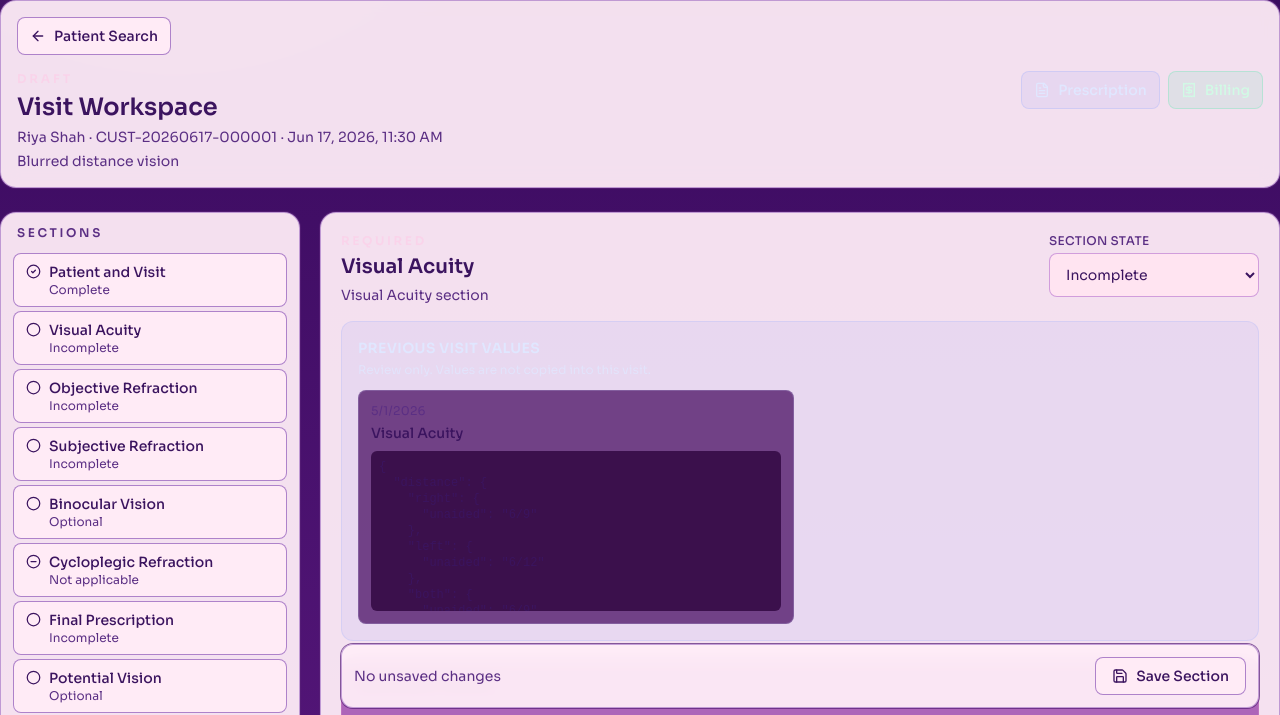
Test: VisitWorkspacePage examination workspace › shows visible save failure state when section save fails
Click the button "Save Section".
click(1171, 676)  # box 1095,657 -> 1246,695
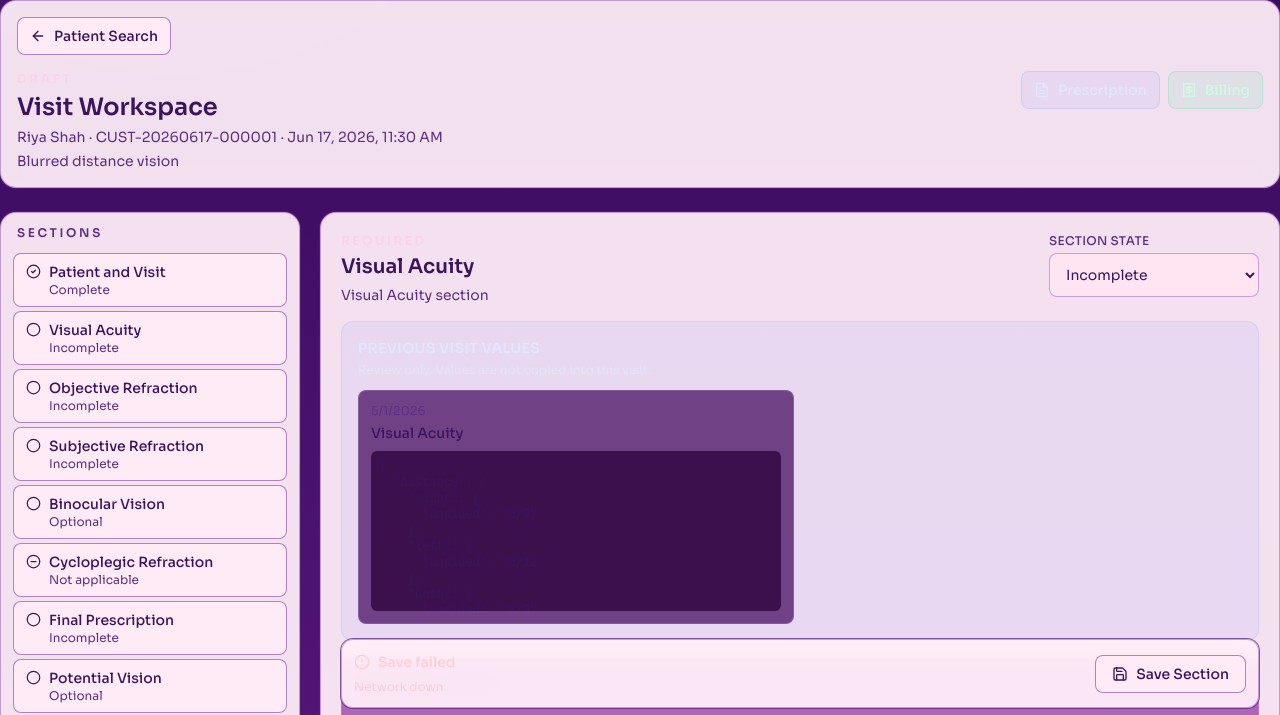
Check: the text "Save failed" is shown, box 354,652 -> 456,672
Check: the text "Network down" is shown, box 354,679 -> 456,695
